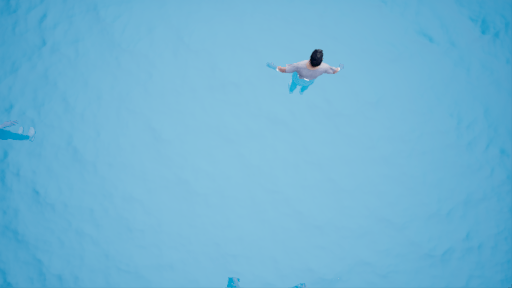person: (267, 48, 344, 100)
